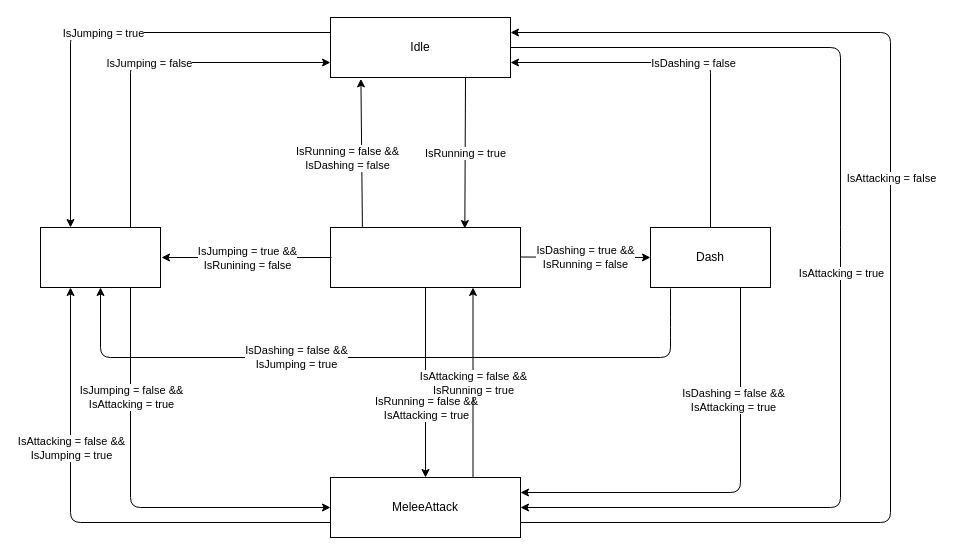
The diagram is 953 pixels wide and 555 high, and some of its shapes have lost their labels. The shapes that lost their labels are listed below. From the top down, each one's centre as x and y in pixels, then its label:
At pixel 100 257: "Jump".
At pixel 425 257: "Walk".
